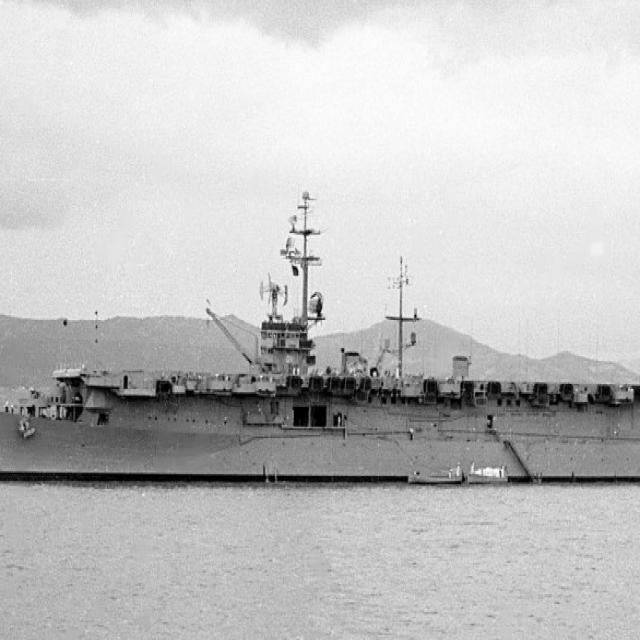Portanaves: (1, 170, 640, 488)
